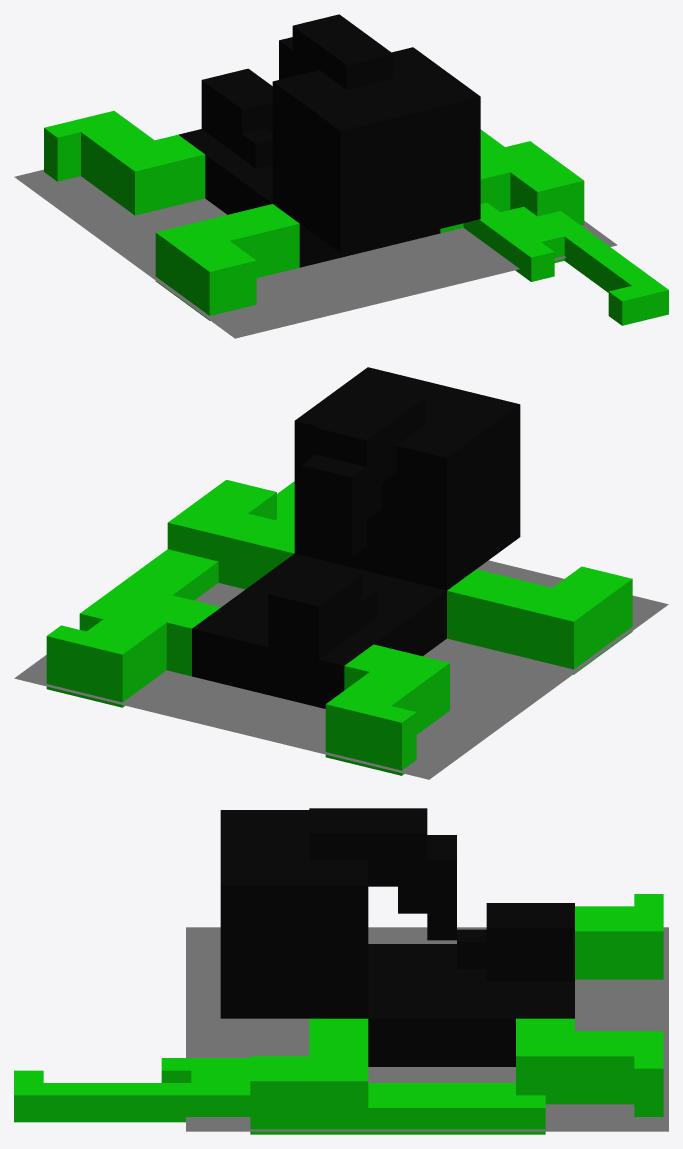
Rendered from snake_unknown_body_v1.FBX.
3 renders of one model, top to bottom at view 1: azimuth 30°, elevation 25°; view 2: azimuth 150°, elevation 25°; view 3: azimuth 270°, elevation 25°, orthographic. The views are drawn at different scales.
Visible parts, largest first — view 1: snake_unknown_body_v1, snake_unknown_soft_shadow; view 2: snake_unknown_body_v1, snake_unknown_soft_shadow; view 3: snake_unknown_body_v1, snake_unknown_soft_shadow.
Boxes of the visible parts, left/top/right/bottom form: snake_unknown_body_v1: left=44, top=14, right=668, bottom=325; snake_unknown_soft_shadow: left=14, top=169, right=617, bottom=338; snake_unknown_body_v1: left=46, top=367, right=632, bottom=775; snake_unknown_soft_shadow: left=14, top=560, right=668, bottom=779; snake_unknown_body_v1: left=14, top=808, right=663, bottom=1134; snake_unknown_soft_shadow: left=186, top=927, right=668, bottom=1131.
Size of the model in its own units: 81.79 by 40 by 111.
